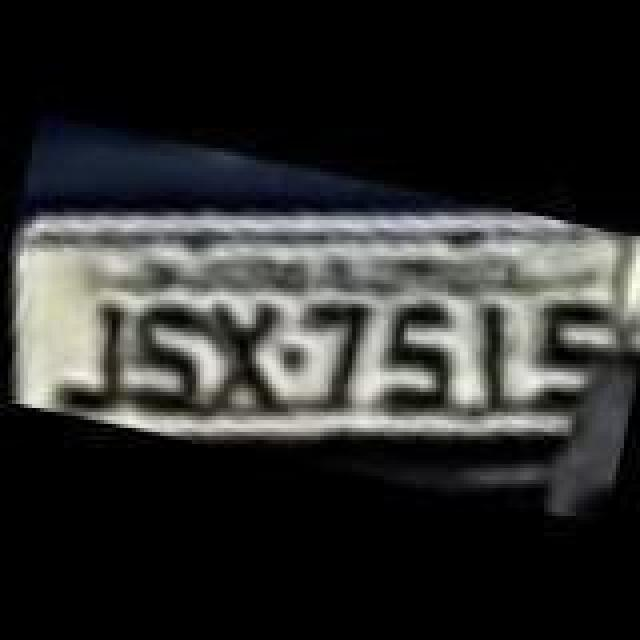1: (458, 296, 526, 420)
5: (364, 292, 468, 424), (518, 296, 618, 424)
7: (292, 284, 372, 408)
J: (48, 290, 144, 414)
S: (110, 296, 210, 424)
X: (182, 288, 306, 428)
